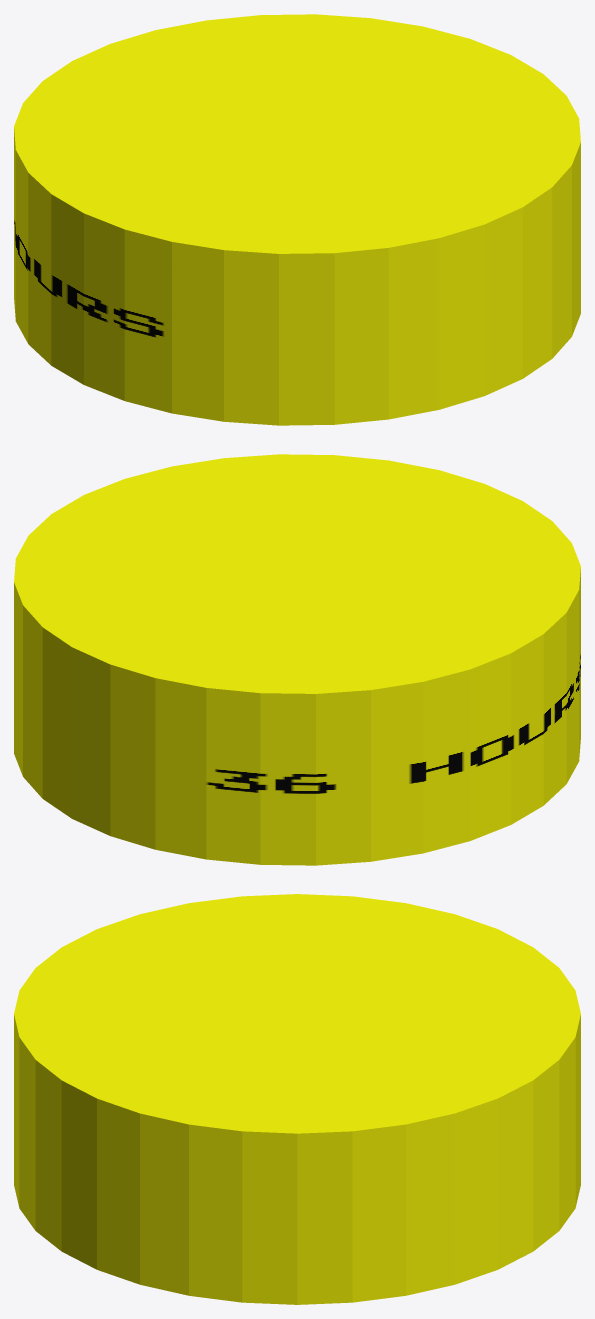
Rendered from crownWithText2.gltf.
3 views of the same model, one above another, from view 1: azimuth 30°, elevation 25°; view 2: azimuth 150°, elevation 25°; view 3: azimuth 270°, elevation 25° (orthographic).
Visible parts, largest first — view 1: Cylinder; view 2: Cylinder; view 3: Cylinder.
Part boxes in pixels (x1,y1,x2,y2): Cylinder: (14,14,580,425); Cylinder: (14,454,580,865); Cylinder: (14,894,580,1304).
Size of the model in its own units: 3 by 1 by 3.
2 materials, 1 textured.
